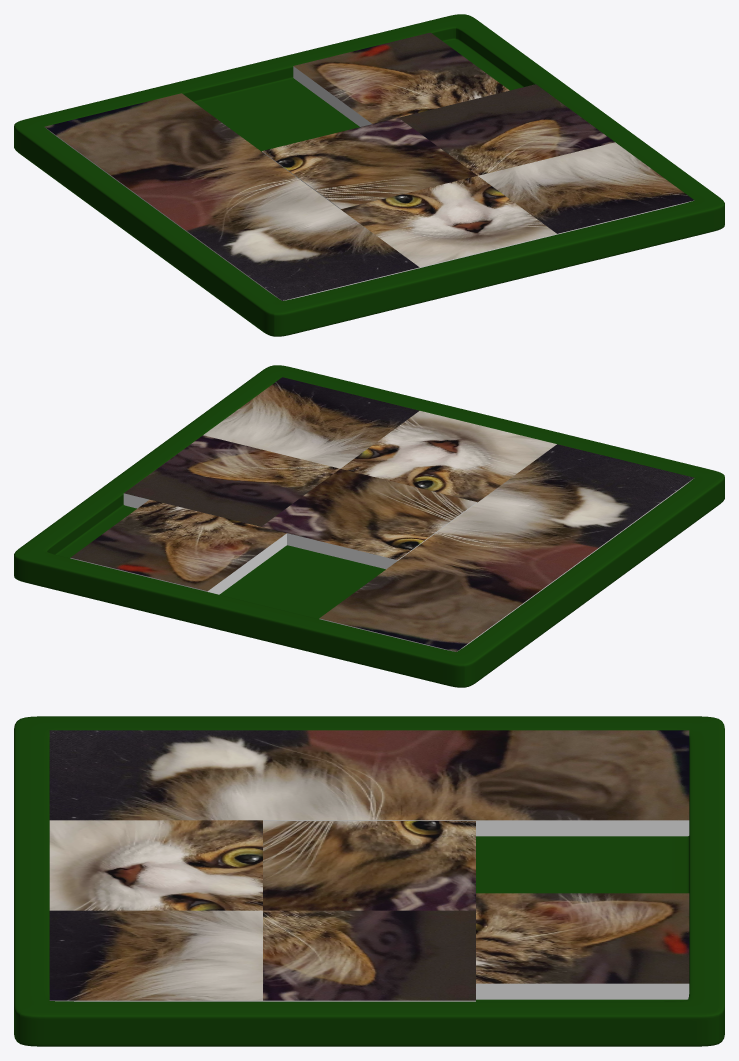
The model's file is puzzles02.fbx.
3 renders of one model, top to bottom at view 1: azimuth 30°, elevation 25°; view 2: azimuth 150°, elevation 25°; view 3: azimuth 270°, elevation 25°, orthographic. The views are drawn at different scales.
Visible parts, largest first — view 1: polySurface1, polySurface13.008, polySurface13.002, polySurface13.005, polySurface13.001, polySurface13.003, polySurface13.004, polySurface13.007, polySurface13.006; view 2: polySurface1, polySurface13.006, polySurface13.008, polySurface13.007, polySurface13.004, polySurface13.003, polySurface13.002, polySurface13.001, polySurface13.005; view 3: polySurface1, polySurface13.004, polySurface13.008, polySurface13.001, polySurface13.007, polySurface13.005, polySurface13.002, polySurface13.003, polySurface13.006.
Boxes of the visible parts, x1=… form: polySurface1: x1=14, y1=14, x2=724, y2=336; polySurface13.008: x1=293, y1=32, x2=509, y2=126; polySurface13.002: x1=203, y1=209, x2=419, y2=300; polySurface13.005: x1=341, y1=176, x2=557, y2=267; polySurface13.001: x1=478, y1=142, x2=694, y2=234; polySurface13.003: x1=123, y1=151, x2=339, y2=243; polySurface13.004: x1=44, y1=93, x2=260, y2=185; polySurface13.007: x1=399, y1=84, x2=614, y2=175; polySurface13.006: x1=262, y1=118, x2=477, y2=209; polySurface1: x1=14, y1=365, x2=724, y2=687; polySurface13.006: x1=261, y1=469, x2=476, y2=569; polySurface13.008: x1=70, y1=499, x2=286, y2=594; polySurface13.007: x1=123, y1=435, x2=339, y2=526; polySurface13.004: x1=319, y1=560, x2=535, y2=651; polySurface13.003: x1=399, y1=502, x2=615, y2=594; polySurface13.002: x1=478, y1=444, x2=694, y2=536; polySurface13.001: x1=203, y1=377, x2=419, y2=468; polySurface13.005: x1=340, y1=411, x2=556, y2=502; polySurface1: x1=14, y1=716, x2=724, y2=1046; polySurface13.004: x1=476, y1=730, x2=689, y2=836; polySurface13.008: x1=476, y1=893, x2=689, y2=999; polySurface13.001: x1=49, y1=910, x2=262, y2=1001; polySurface13.007: x1=263, y1=910, x2=475, y2=1001; polySurface13.005: x1=49, y1=820, x2=262, y2=910; polySurface13.002: x1=49, y1=730, x2=262, y2=820; polySurface13.003: x1=263, y1=730, x2=475, y2=820; polySurface13.006: x1=263, y1=821, x2=475, y2=910.
Bounding box in the file's own units: 900 × 45 × 900.
